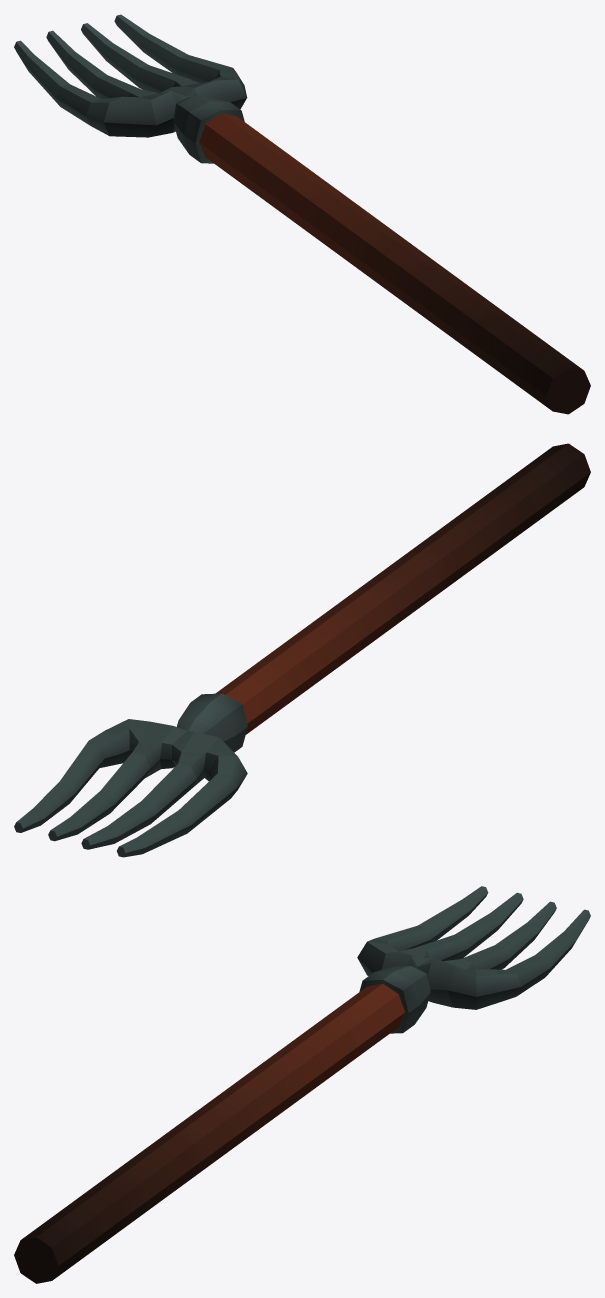
The model's file is FBX_Pitchfork.fbx.
3 views of the same model, one above another, from view 1: azimuth 30°, elevation 25°; view 2: azimuth 150°, elevation 25°; view 3: azimuth 330°, elevation 25° (orthographic).
Parts seen in each view (by area): view 1: M_Pitchfork; view 2: M_Pitchfork; view 3: M_Pitchfork.
Part boxes in pixels (bbox=[...]): M_Pitchfork: bbox=[14, 14, 590, 414]; M_Pitchfork: bbox=[14, 443, 590, 857]; M_Pitchfork: bbox=[14, 886, 590, 1283].
Bounding box in the file's own units: 0.2437 × 0.0818 × 1.37.
